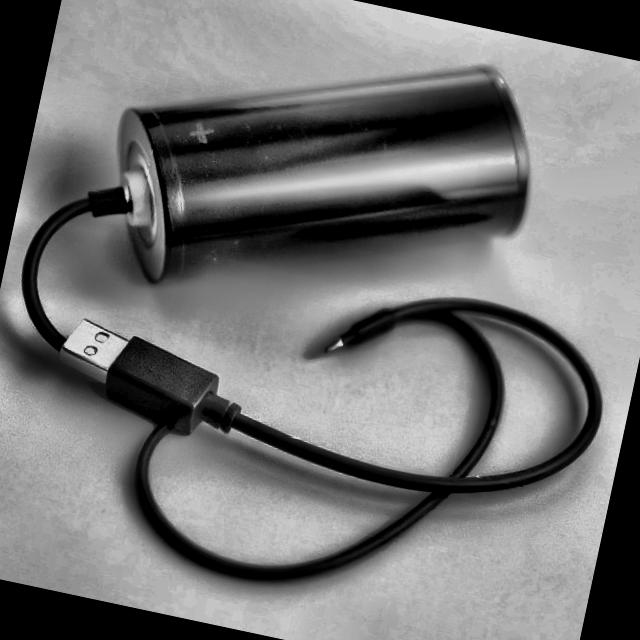Battery: (85, 0, 557, 349)
Cable: (0, 222, 620, 640)
